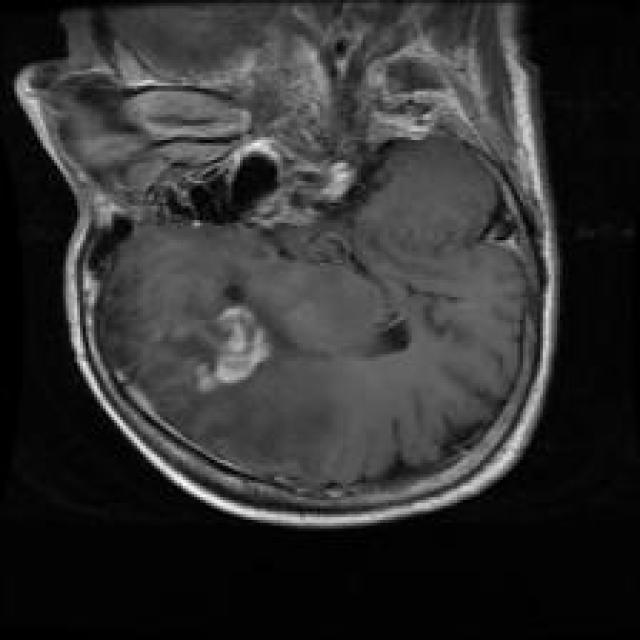glioma_tumor: (156, 288, 326, 395)
